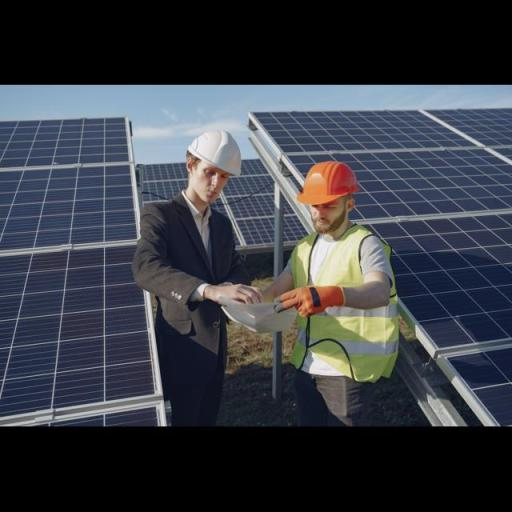Hardhat: (122, 96, 280, 426), (273, 134, 414, 438)
NO-Hardhat: (272, 273, 347, 319)
NO-Safety Vest: (288, 156, 362, 206), (184, 125, 242, 178)
machinery: (126, 207, 253, 375)
vehicle: (285, 230, 402, 382)
